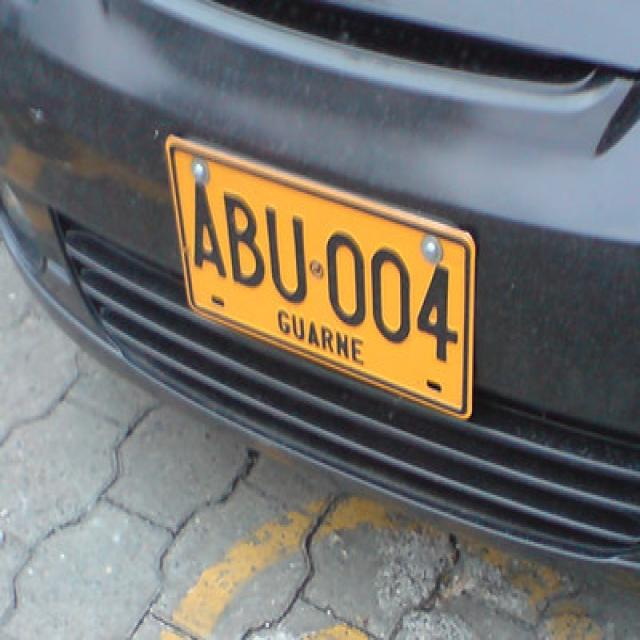placa_carro: (150, 103, 483, 448)
